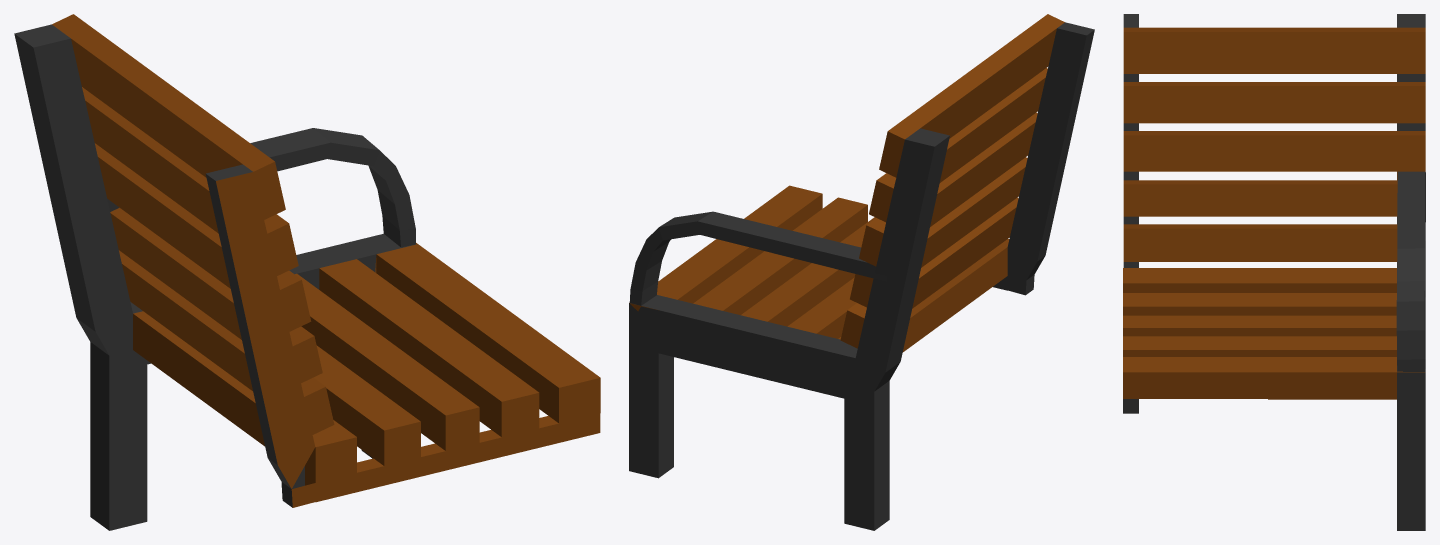
File: park_bench.glb
3 views of the same model, side by side, from view 1: azimuth 30°, elevation 25°; view 2: azimuth 150°, elevation 25°; view 3: azimuth 270°, elevation 25° (orthographic). The views are drawn at different scales.
Visible parts, largest first — view 1: Cube; view 2: Cube; view 3: Cube.
Part boxes in pixels (x1,y1,x2,y2): Cube: [14, 14, 600, 530]; Cube: [629, 14, 1094, 530]; Cube: [1123, 14, 1425, 530].
Bounding box in the file's own units: 0.7525 × 0.9479 × 0.6844.
